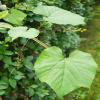grape leaf: (31, 47, 98, 99), (31, 3, 90, 27), (7, 25, 41, 43), (2, 8, 26, 26)
